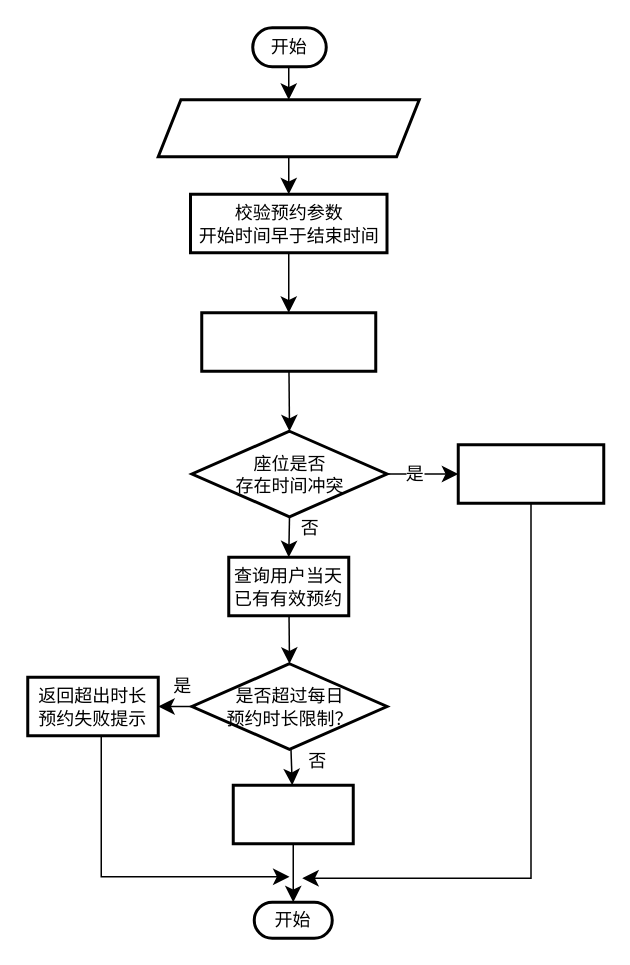
Image size: 630x965. Some labels were removed from this diagram. The shapes that lost their labels are listed below. From the top down, each one's centre as x and y in pixels, then its label:
At [288,128]: "接受预约请求 用户、座位、日期、时间段".
At [288,341]: "查询目标座位 目标时间段预约记录".
At [530,473]: "返回座位冲突 预约失败提示".
At [292,813]: "创建预约记录 状态为待签到".
